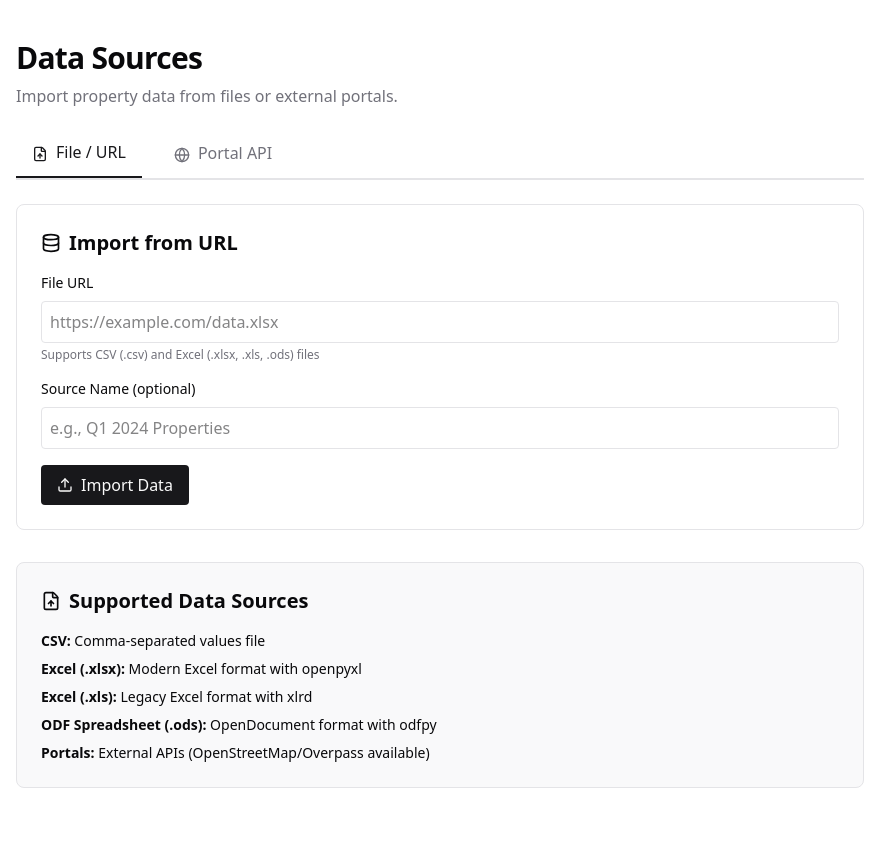
Test: DataSourcesPage › fetches from portal
Step 1. Click the button "Portal API" → (223, 159), box [158,140,288,178]
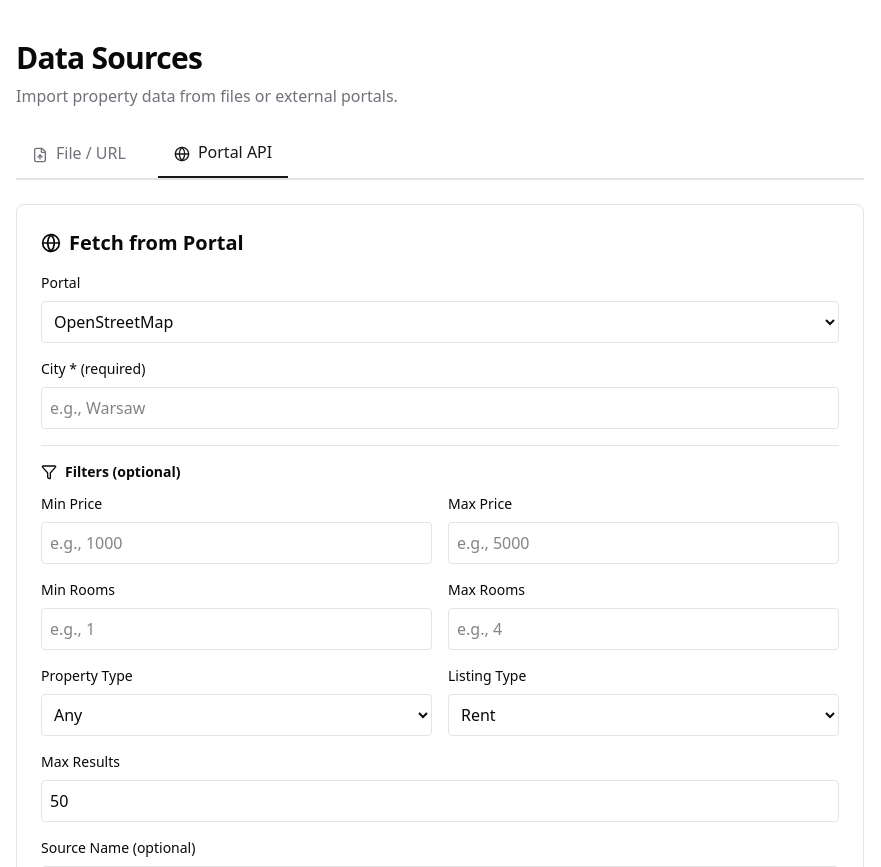
Result: the dropdown labelled "Portal" is shown at [41,301,839,343]
Step 2. Type "Warsaw" into the field labelled "City" → (440, 408), box [41,387,839,429]
(page scrolled)
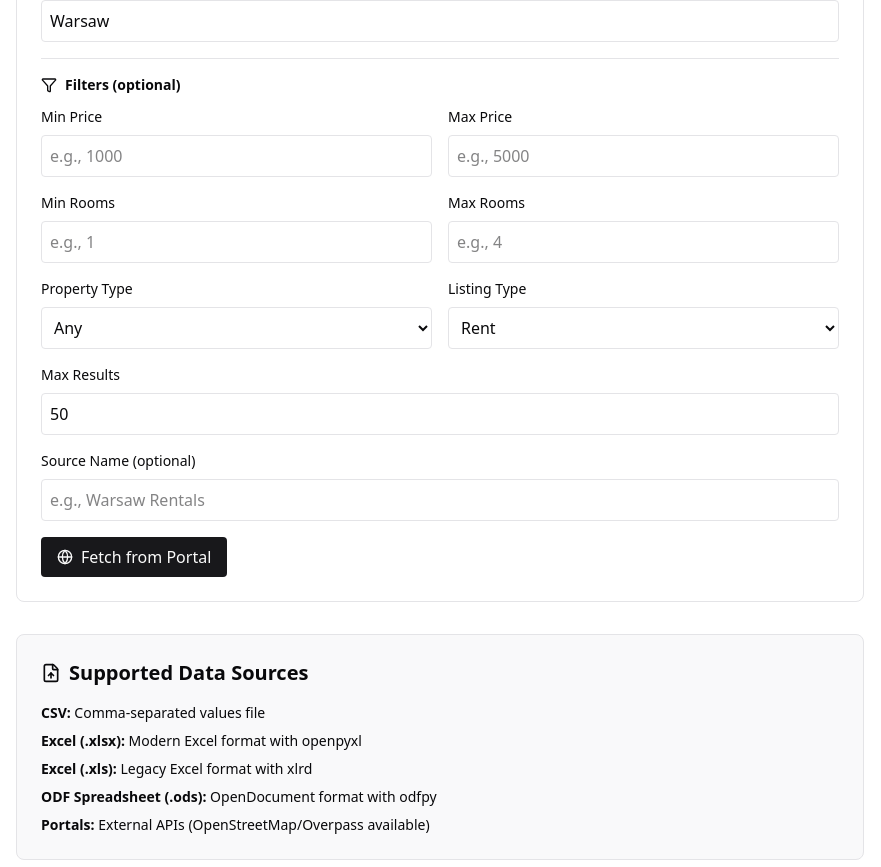
Step 3. Click the button "Fetch from Portal" → (134, 557), box [41,537,227,577]
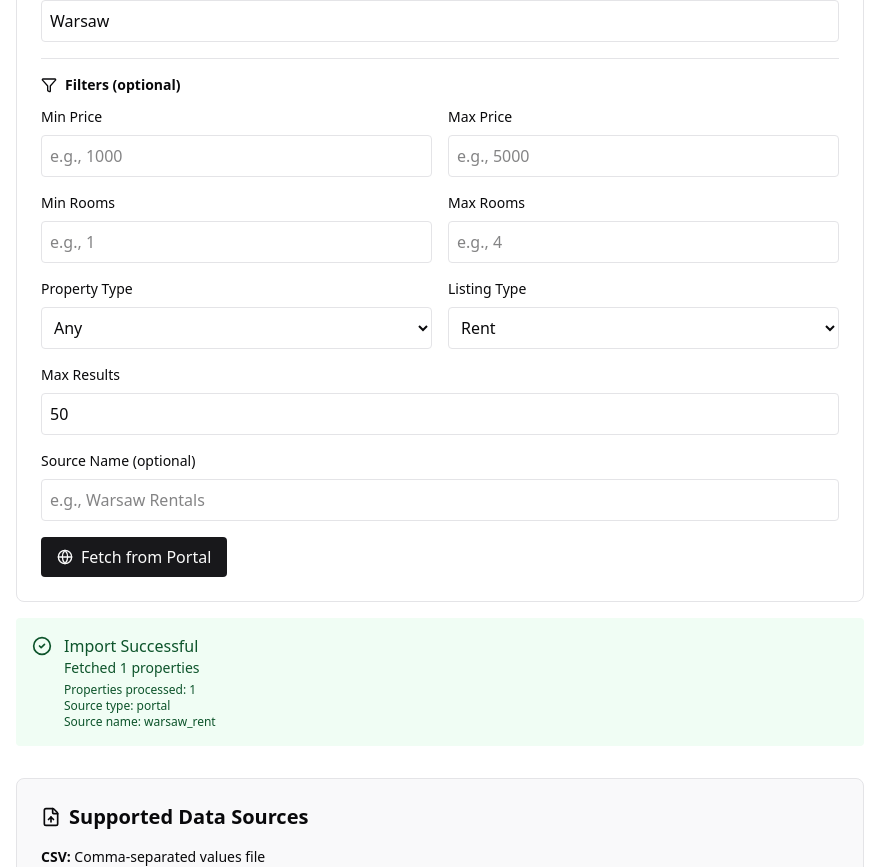
Result: the text "Fetched 1 properties" is shown at [64,658,216,678]
